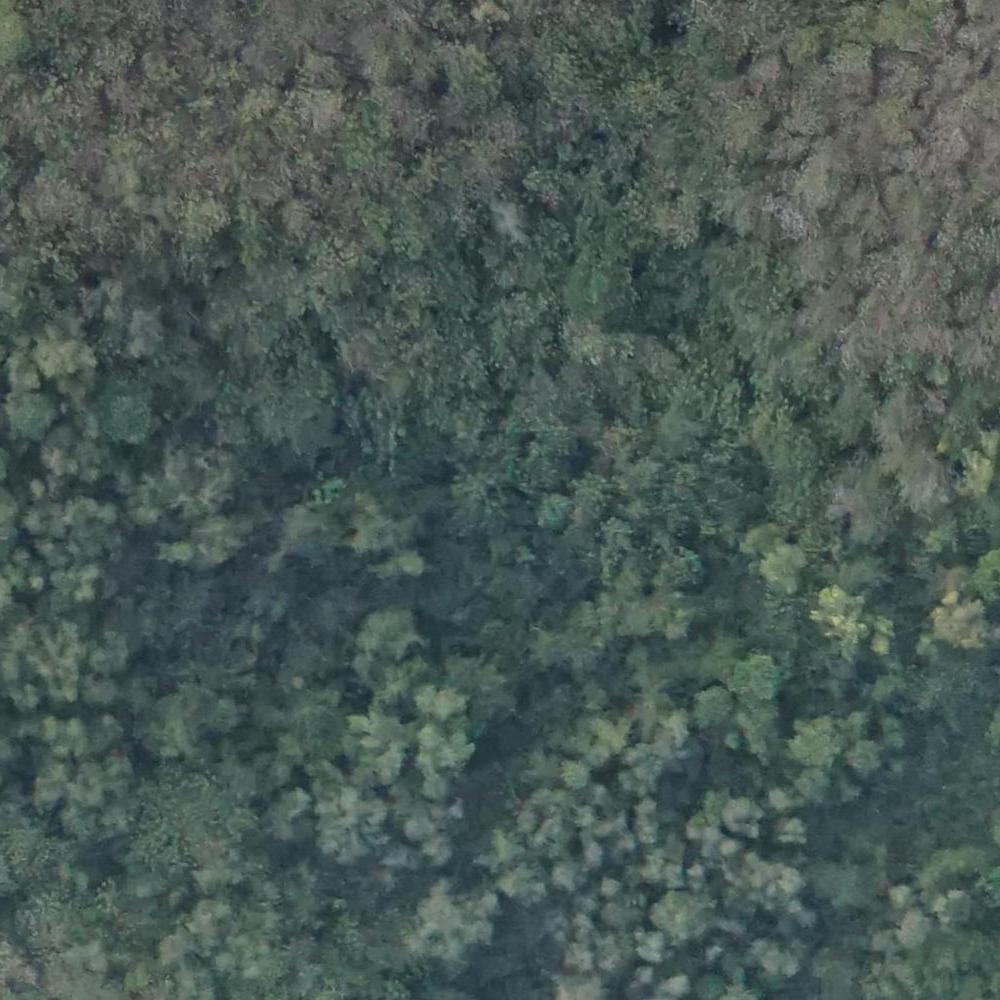tree: (805, 709, 876, 800), (413, 883, 494, 956), (151, 686, 229, 758), (314, 787, 387, 862), (842, 467, 903, 540), (456, 459, 511, 529), (91, 382, 151, 446), (930, 592, 993, 651), (821, 584, 870, 656), (756, 536, 806, 601), (356, 607, 419, 658), (733, 654, 789, 707), (653, 889, 714, 937), (178, 184, 229, 239), (798, 154, 860, 199), (188, 516, 243, 563), (303, 85, 349, 132), (290, 504, 332, 555), (837, 42, 881, 86), (503, 863, 547, 907), (536, 488, 578, 530), (47, 332, 86, 375), (429, 688, 469, 728), (631, 746, 667, 781), (696, 689, 732, 724), (962, 455, 1000, 487), (730, 790, 756, 829), (891, 902, 926, 929), (562, 759, 590, 792)
